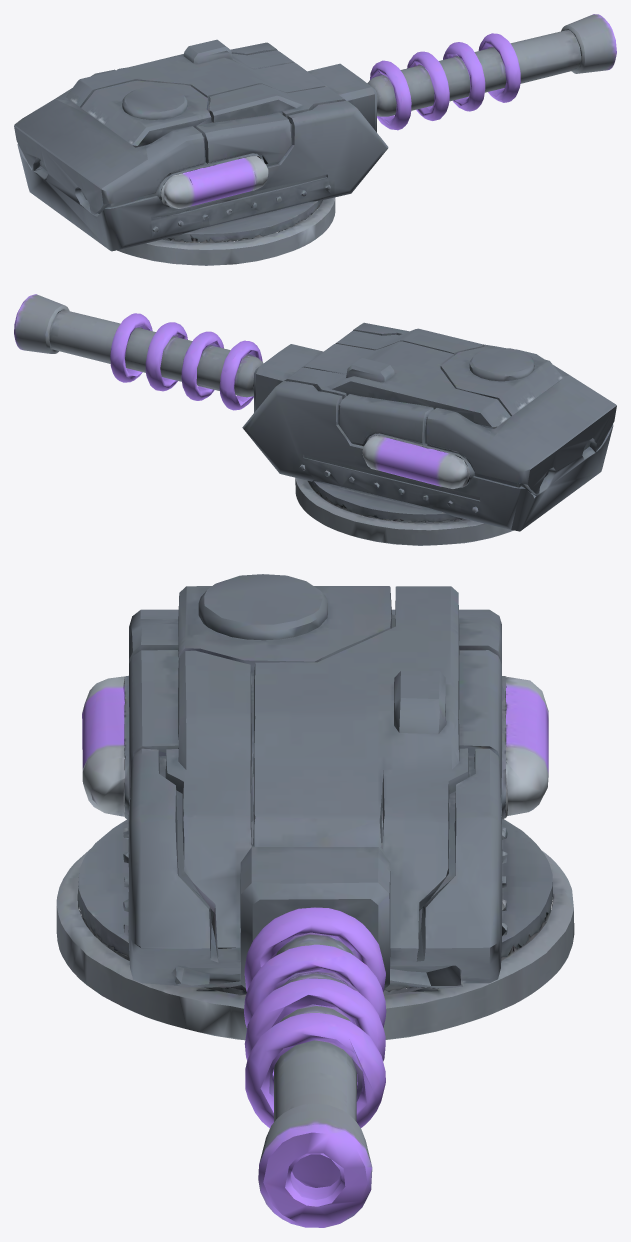
Rendered from weapon-pulse-1-light.glb.
3 renders of one model, top to bottom at view 1: azimuth 30°, elevation 25°; view 2: azimuth 150°, elevation 25°; view 3: azimuth 270°, elevation 25°, orthographic. The views are drawn at different scales.
Parts seen in each view (by area): view 1: weapon-pulse-1-light; view 2: weapon-pulse-1-light; view 3: weapon-pulse-1-light.
Boxes of the visible parts, <box> form: weapon-pulse-1-light: <box>14,14,616,265</box>; weapon-pulse-1-light: <box>14,294,616,545</box>; weapon-pulse-1-light: <box>56,574,574,1227</box>.
Size of the model in its own units: 2.66 by 0.6544 by 1.09.
Materials: 1 (1 with a texture image).
